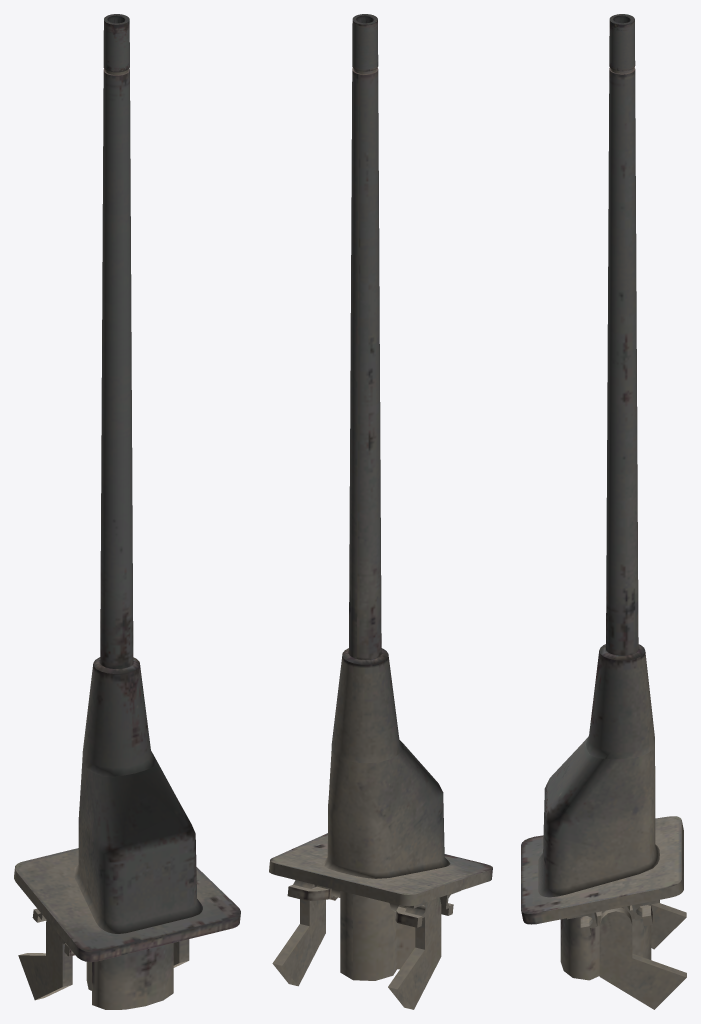
The model's file is Gun_06.glb.
3 renders of one model, left to right at view 1: azimuth 30°, elevation 25°; view 2: azimuth 150°, elevation 25°; view 3: azimuth 270°, elevation 25°, orthographic. The views are drawn at different scales.
Visible parts, largest first — view 1: set_0_group_0; view 2: set_0_group_0; view 3: set_0_group_0.
Boxes of the visible parts, x1,y1,x2,y2 form: set_0_group_0: (14, 14, 240, 1009); set_0_group_0: (269, 14, 492, 1009); set_0_group_0: (521, 14, 686, 1009).
Size of the model in its own units: 0.8166 by 4.75 by 0.7431.
1 material, 1 textured.
